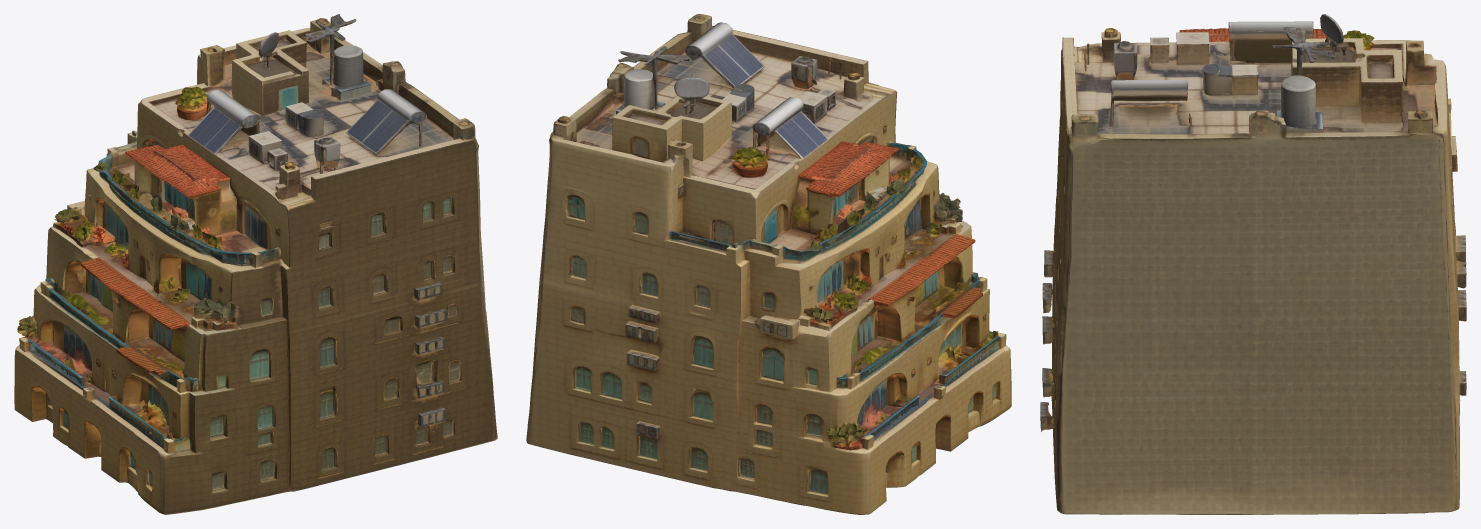
The model's file is r3_jer_flat_6t.glb.
The picture shows the model from 3 angles, left to right: view 1: azimuth 30°, elevation 25°; view 2: azimuth 150°, elevation 25°; view 3: azimuth 270°, elevation 25°; orthographic projection. The views are drawn at different scales.
Visible parts, largest first — view 1: geometry_0; view 2: geometry_0; view 3: geometry_0.
Boxes of the visible parts, left/top/right/bottom form: geometry_0: left=14, top=14, right=497, bottom=514; geometry_0: left=526, top=14, right=1011, bottom=514; geometry_0: left=1040, top=14, right=1466, bottom=514.
Bounding box in the file's own units: 20 × 20 × 18.
Materials: 1 (1 with a texture image).
